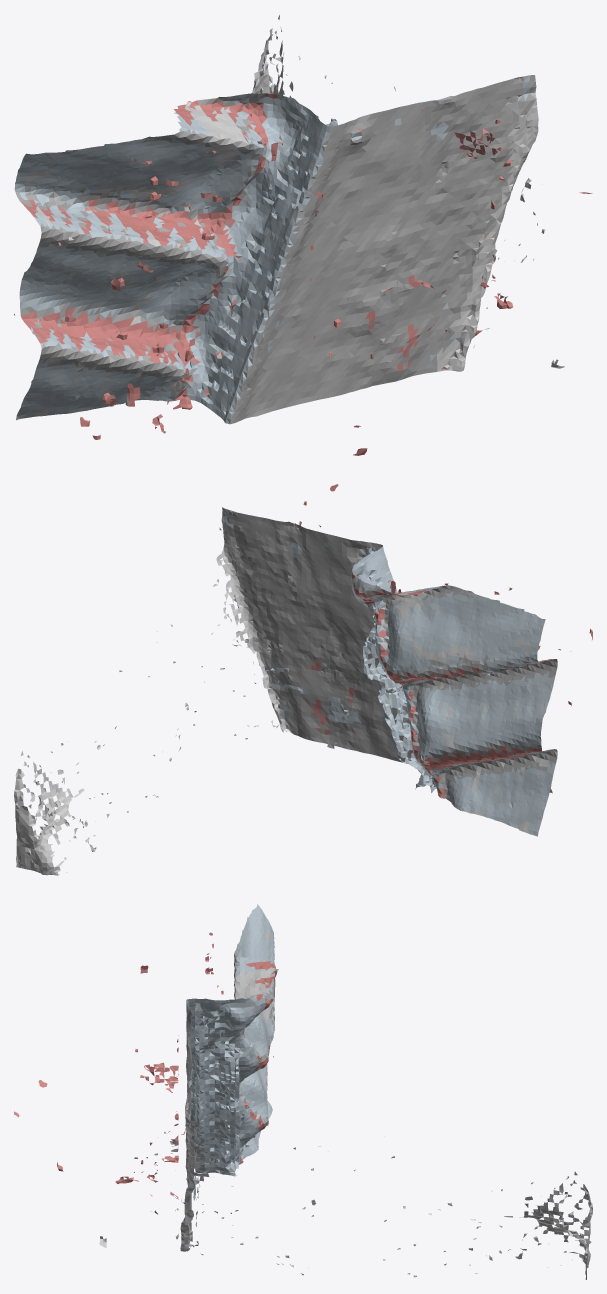
Rendered from B173-날개__nojudge_ALS_s0__before.glb.
The picture shows the model from 3 angles, top to bottom: view 1: azimuth 30°, elevation 25°; view 2: azimuth 150°, elevation 25°; view 3: azimuth 270°, elevation 25°; orthographic projection. The views are drawn at different scales.
Size of the model in its own units: 16.01 by 9 by 22.9.
